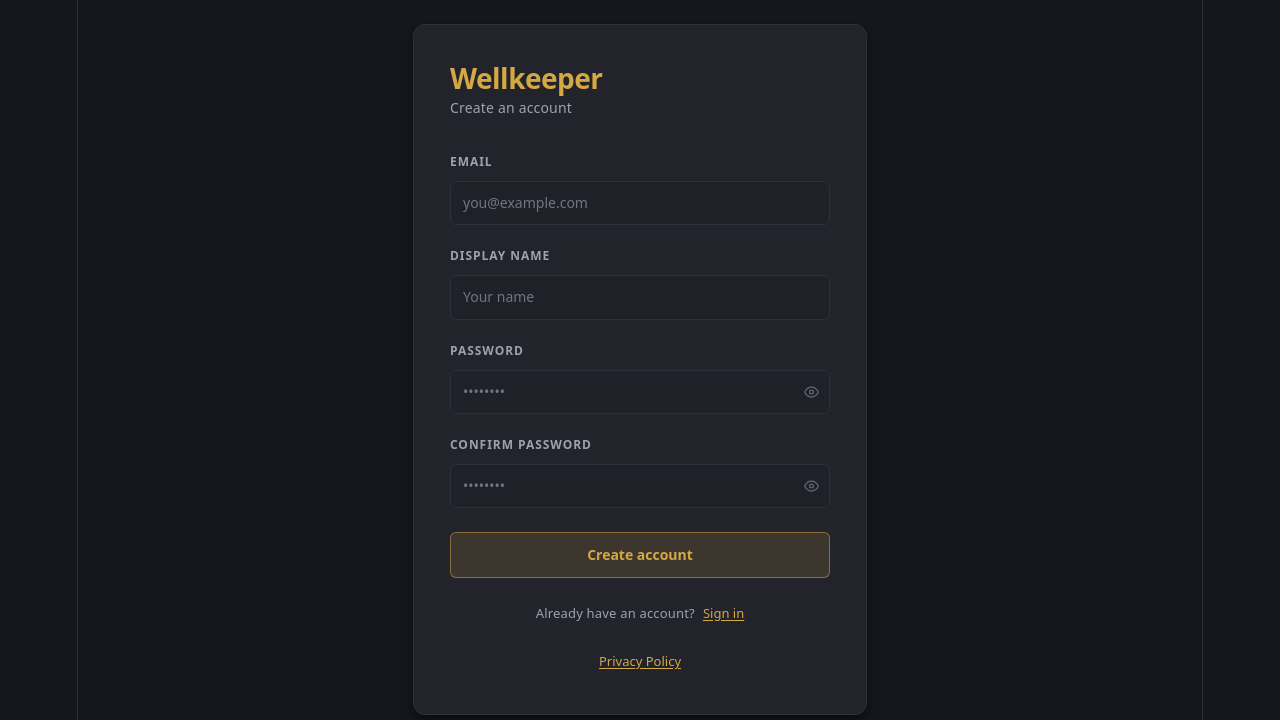
Scenario: RegisterPage › shows a 409 error from the server
The width and height of the screenshot is (1280, 720).
In the field labelled "Email": point(640, 203) [450,181,830,225], type "new@example.com"
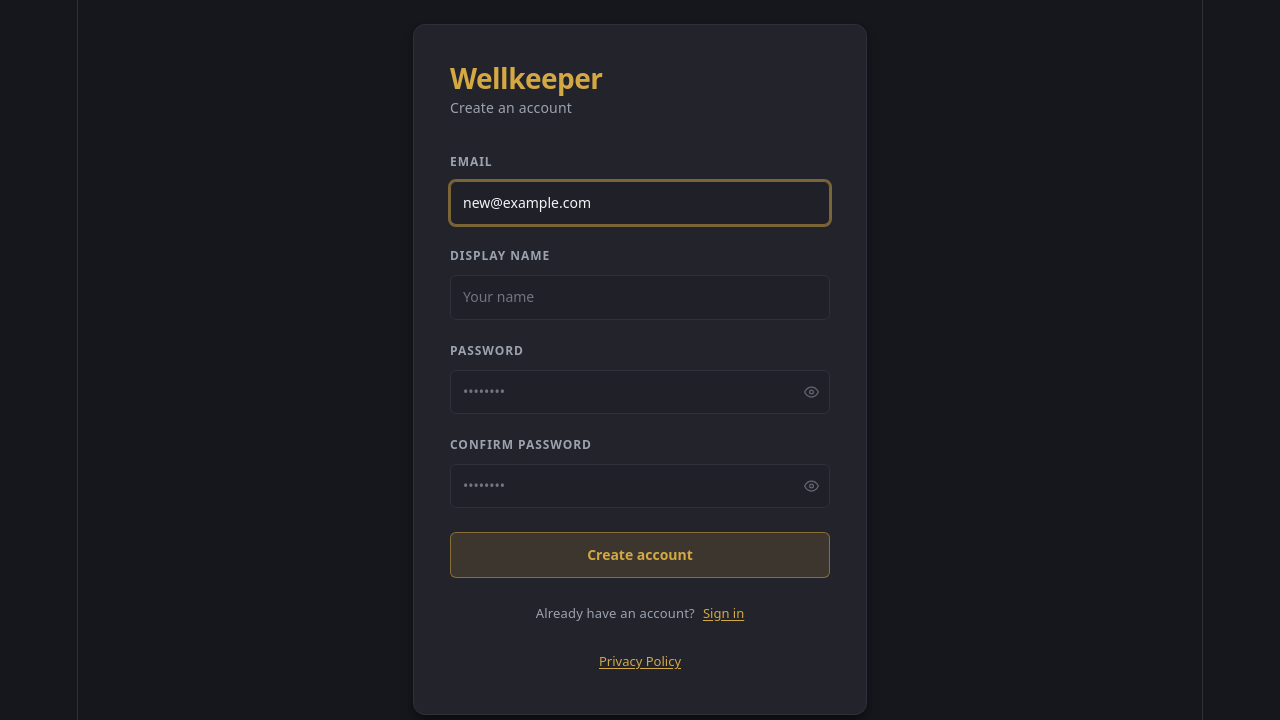
In the field labelled "Display name": point(640, 298) [450,276,830,320], type "New User"
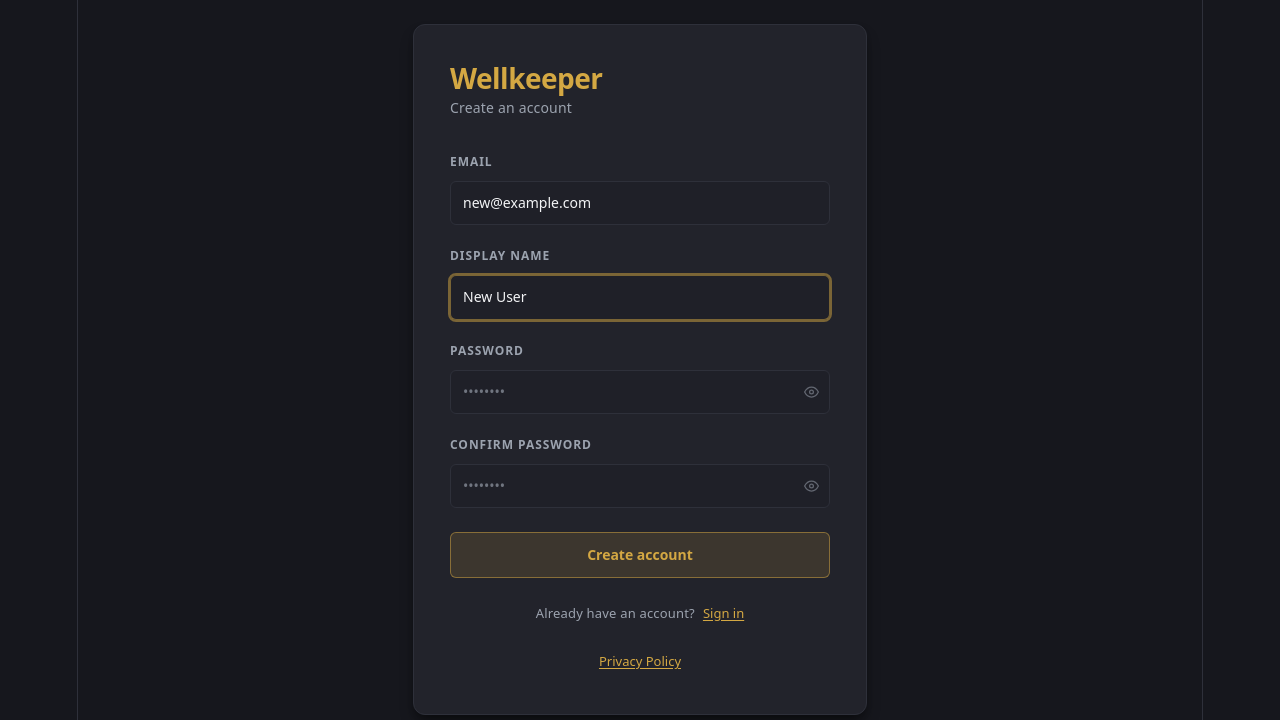
In the password field labelled "Password": point(640, 392) [450,370,830,414], type "pass123"
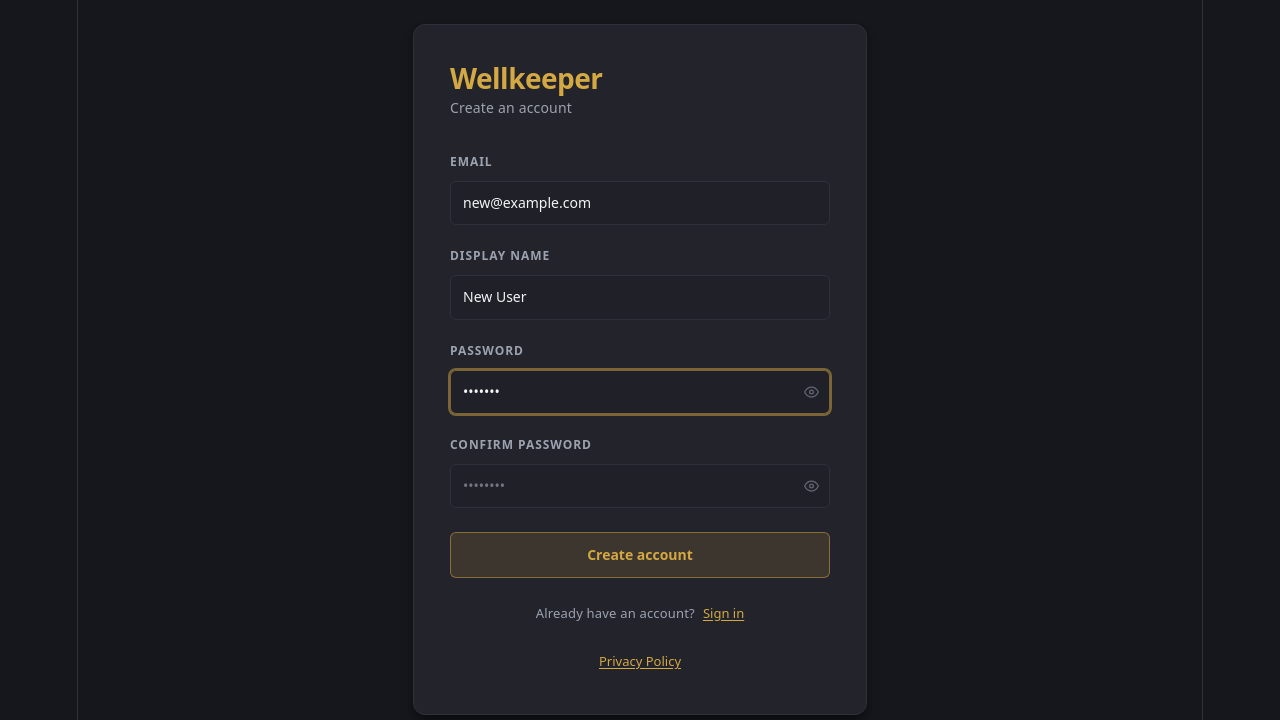
In the password field labelled "Confirm Password": point(640, 486) [450,464,830,508], type "pass123"
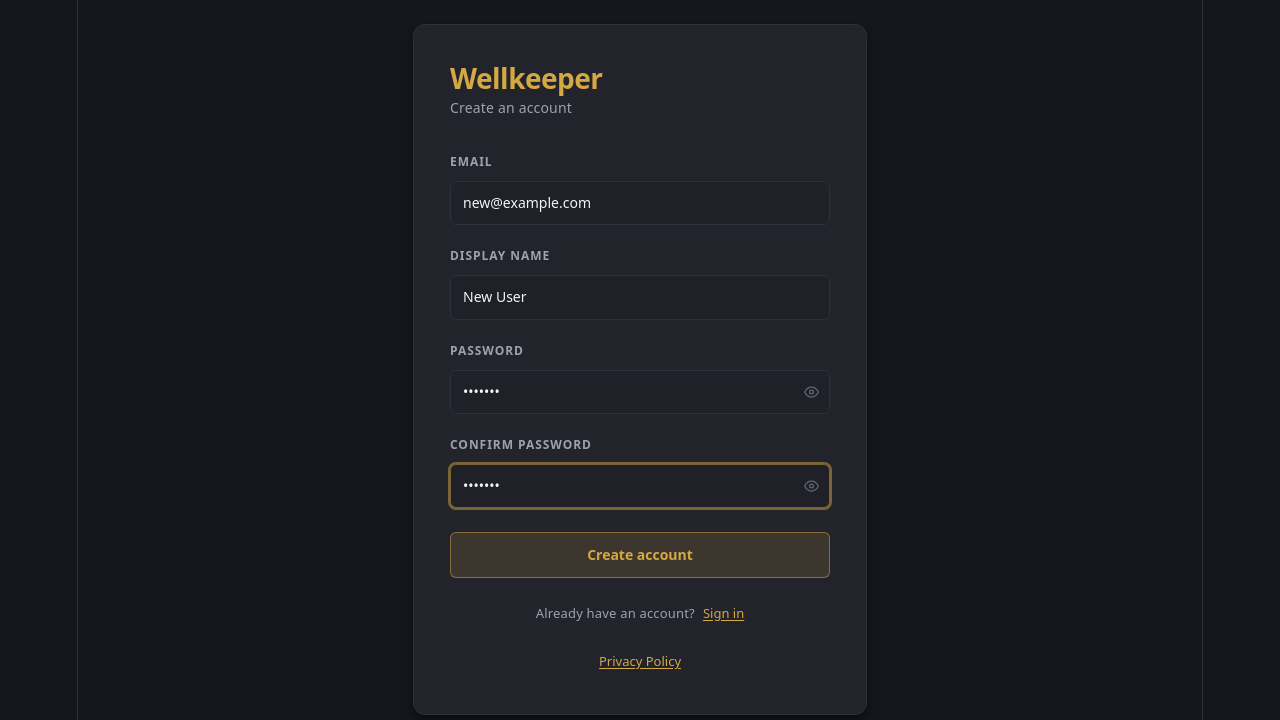
Click the button "Create account": point(640, 555) [450,532,830,578]
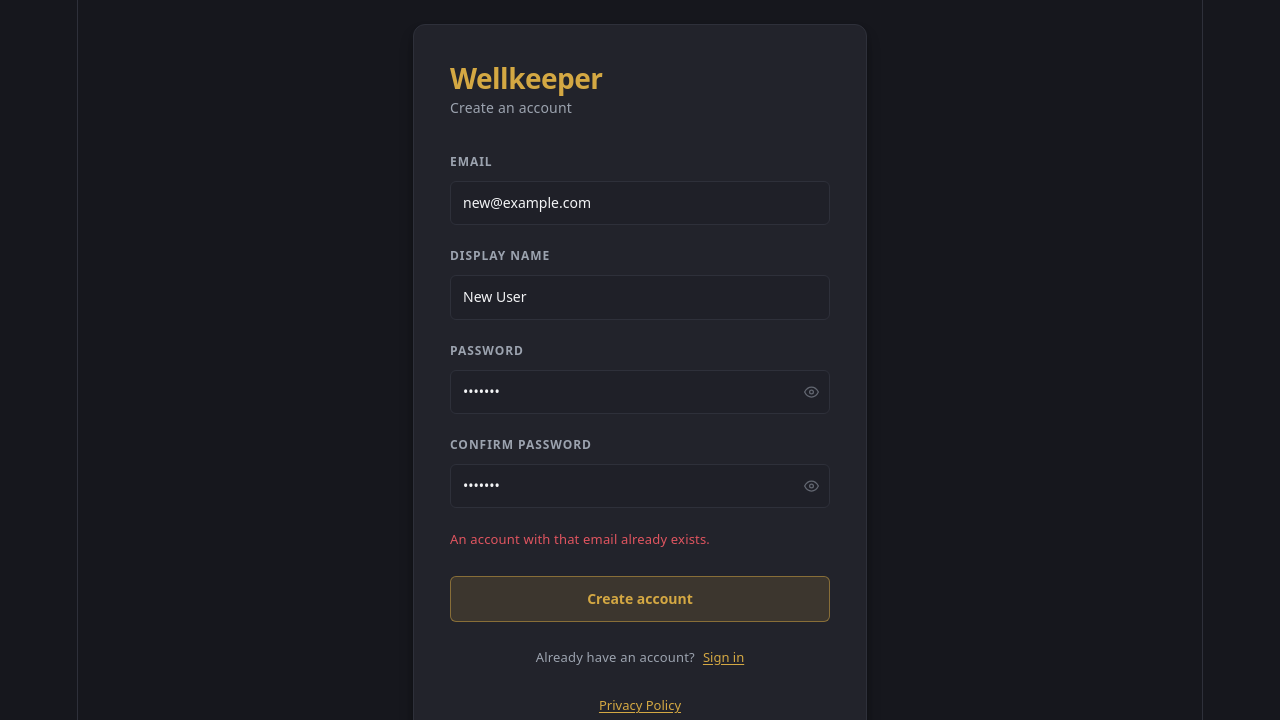
Result: the message shows "already exists" at [450,530,710,548]
